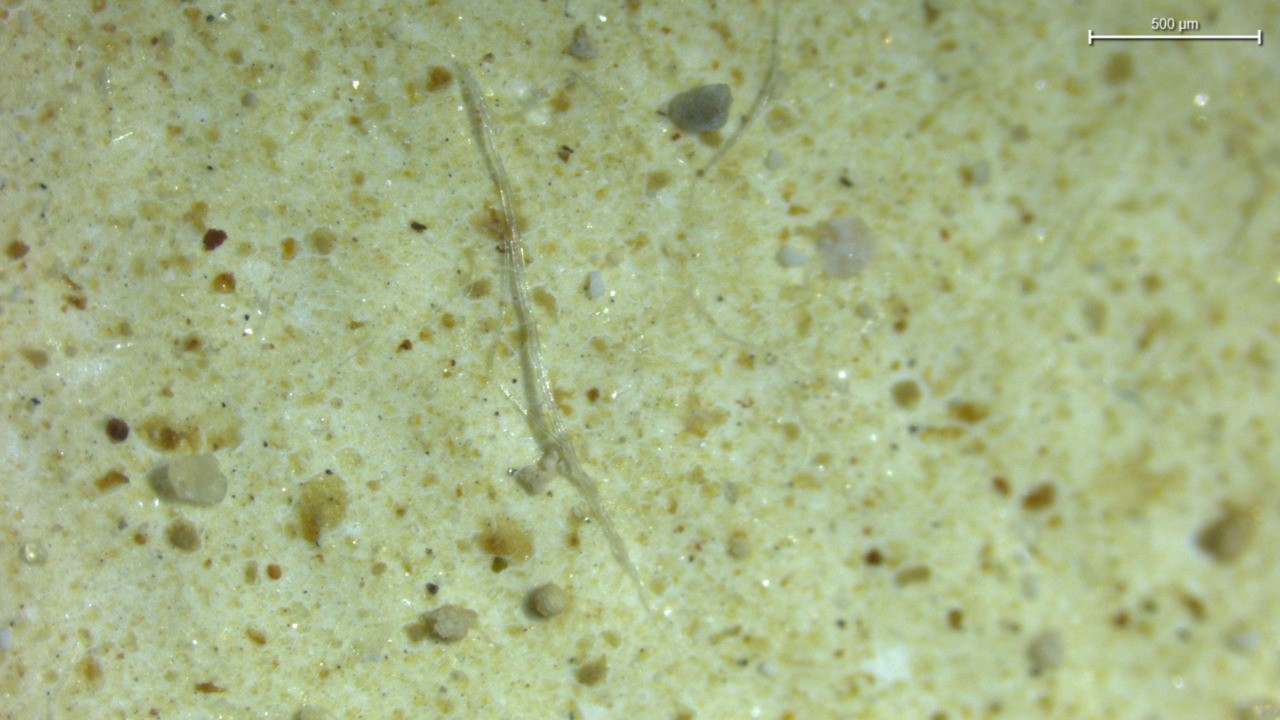microplastic_fragment: (664, 84, 732, 133), (167, 454, 227, 505), (424, 605, 477, 642), (525, 583, 570, 619), (588, 272, 605, 299)
